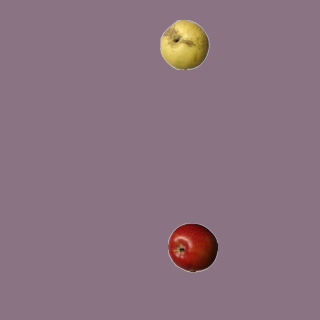Apple Braeburn: (167, 222, 217, 272)
Apple Golden 1: (159, 19, 209, 69)
